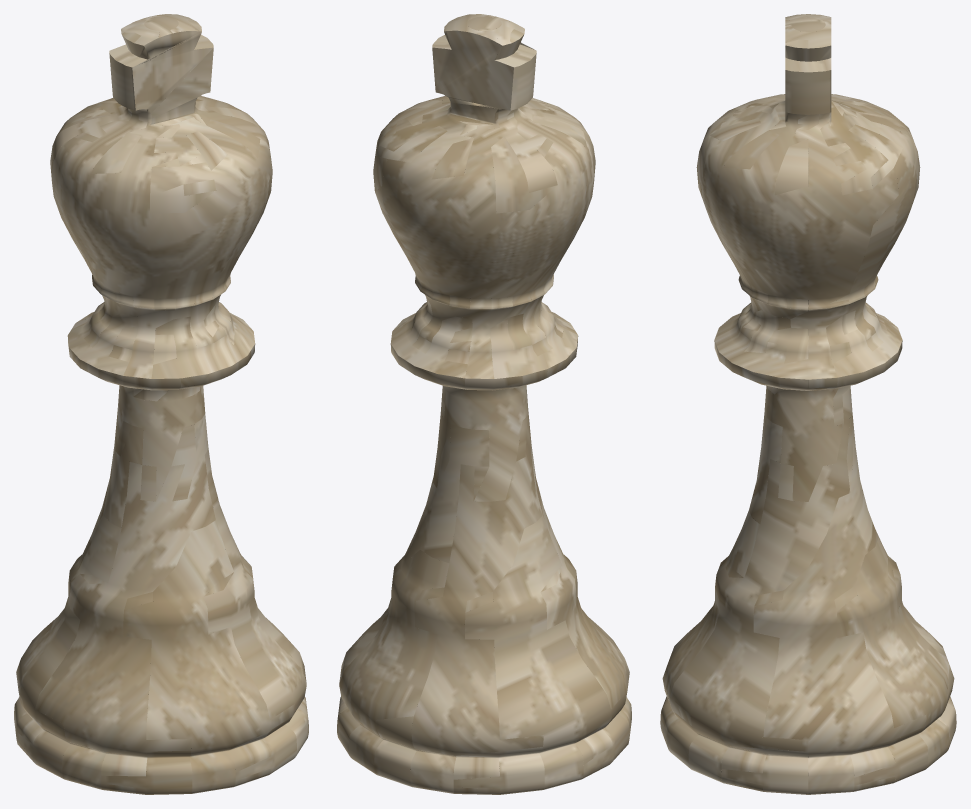
The model's file is King.obj.
The picture shows the model from 3 angles, left to right: view 1: azimuth 30°, elevation 25°; view 2: azimuth 150°, elevation 25°; view 3: azimuth 270°, elevation 25°; orthographic projection.
Parts seen in each view (by area): view 1: chess; view 2: chess; view 3: chess.
Boxes of the visible parts, x1,y1,x2,y2 form: chess: (14,14,308,794); chess: (337,14,631,794); chess: (660,14,956,794).
Bounding box in the file's own units: 0.8855 × 2.35 × 0.8855.
